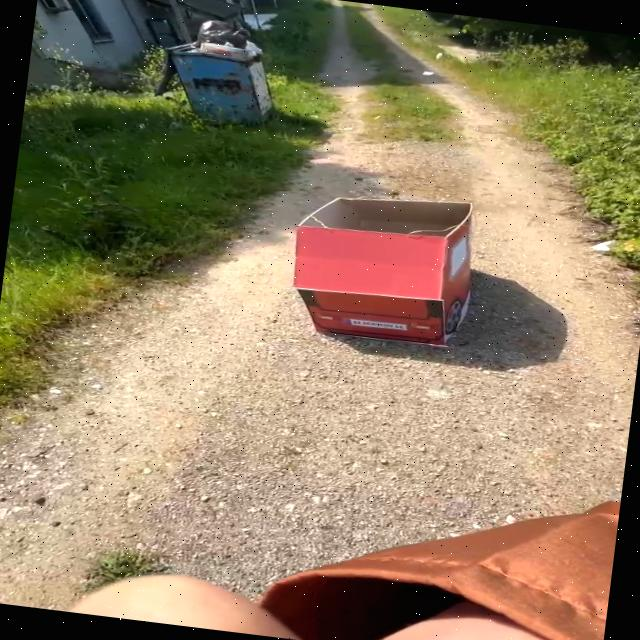red_car: (254, 173, 500, 378)
